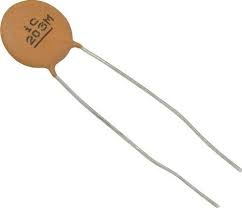ceramic capacitor: (1, 1, 105, 89)
